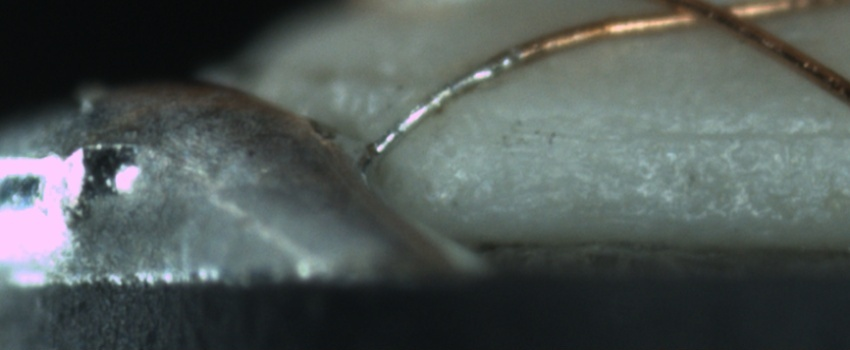CL: (635, 2, 776, 36)
DL: (642, 103, 850, 169)
TS: (372, 48, 521, 156)
TTCW: (364, 27, 574, 167)
